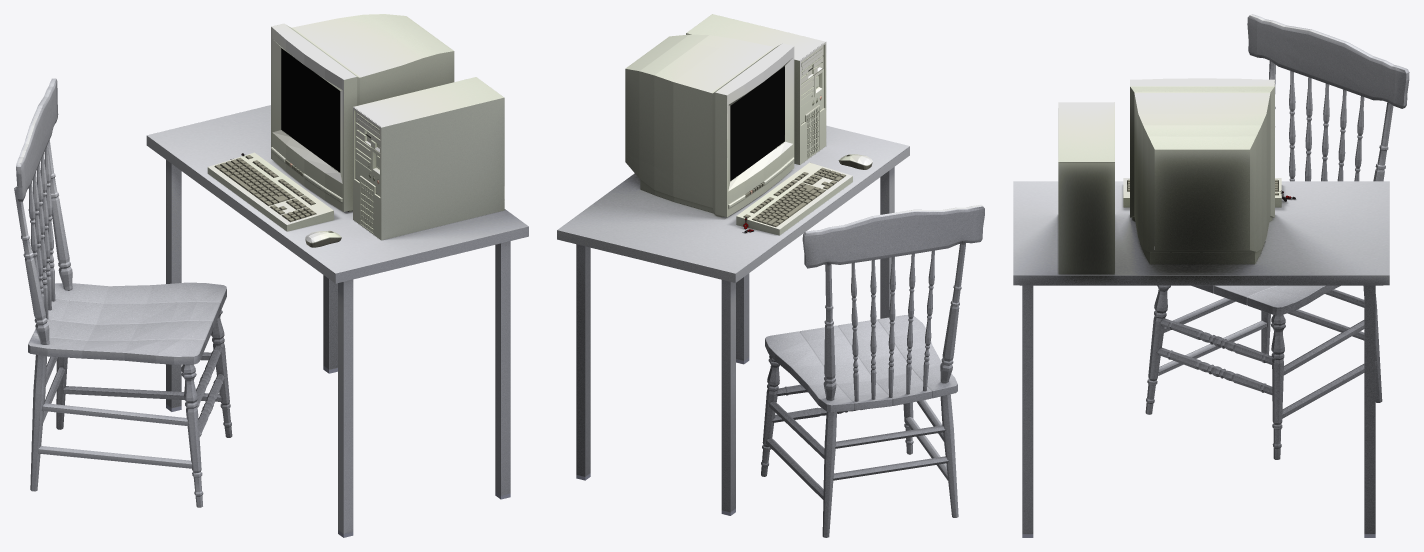
Rendered from Computer.gltf.
The picture shows the model from 3 angles, left to right: view 1: azimuth 30°, elevation 25°; view 2: azimuth 150°, elevation 25°; view 3: azimuth 270°, elevation 25°; orthographic projection. The views are drawn at different scales.
Visible parts, largest first — view 1: ComputerChair, CopmputerTable, Monitor1, PCCase, Keyboard, KeyboardKeys; view 2: ComputerChair, Monitor1, CopmputerTable, PCCase, Keyboard, KeyboardKeys; view 3: CopmputerTable, Monitor1, ComputerChair, PCCase.
Part boxes in pixels (x1,y1,x2,y2): ComputerChair: (14, 78, 232, 507); CopmputerTable: (146, 105, 528, 537); Monitor1: (271, 14, 454, 211); PCCase: (353, 77, 504, 240); Keyboard: (207, 152, 333, 231); KeyboardKeys: (215, 155, 315, 222); ComputerChair: (761, 204, 984, 537); Monitor1: (625, 34, 794, 217); CopmputerTable: (557, 125, 909, 515); PCCase: (686, 14, 826, 164); Keyboard: (736, 162, 852, 235); KeyboardKeys: (744, 167, 845, 226); CopmputerTable: (1013, 181, 1389, 537); Monitor1: (1130, 78, 1274, 264); ComputerChair: (1145, 14, 1409, 459); PCCase: (1058, 102, 1114, 274).
Size of the model in its own units: 1.45 by 1.43 by 1.27.
Materials: 9 (9 with a texture image).
